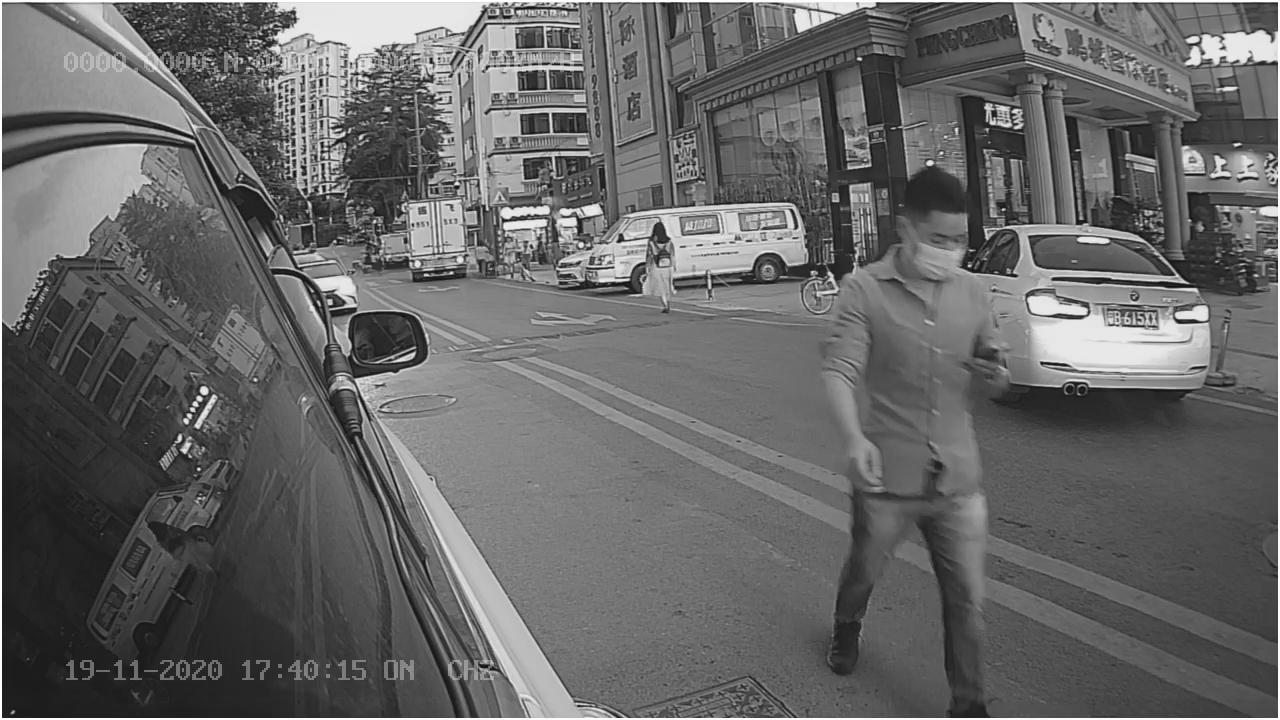person: (809, 161, 1009, 698)
